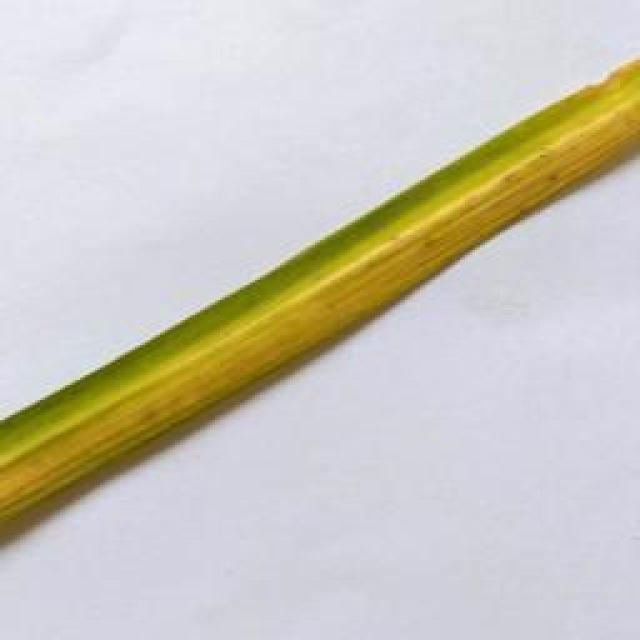Bacterial_Blight: (0, 38, 640, 574)
Brown_Spot: (534, 166, 574, 195), (414, 240, 439, 255)
